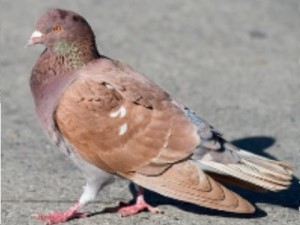pigeon: (21, 6, 296, 225)
